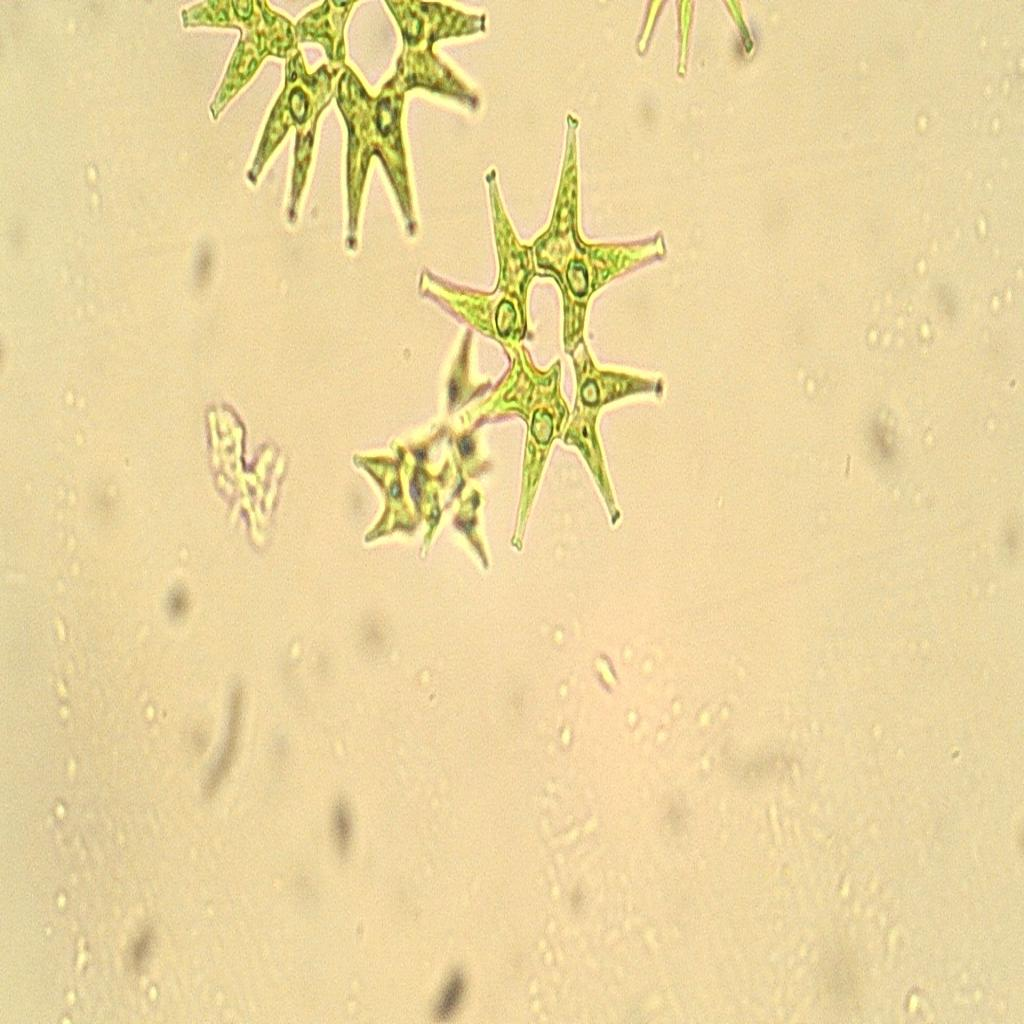Pediastrum_CF: (409, 106, 684, 577)
